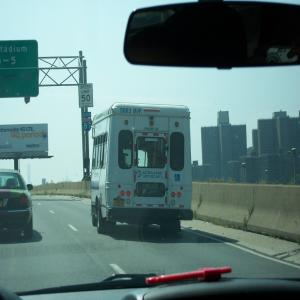Vehicle-registration-plate: (115, 200, 125, 207)
